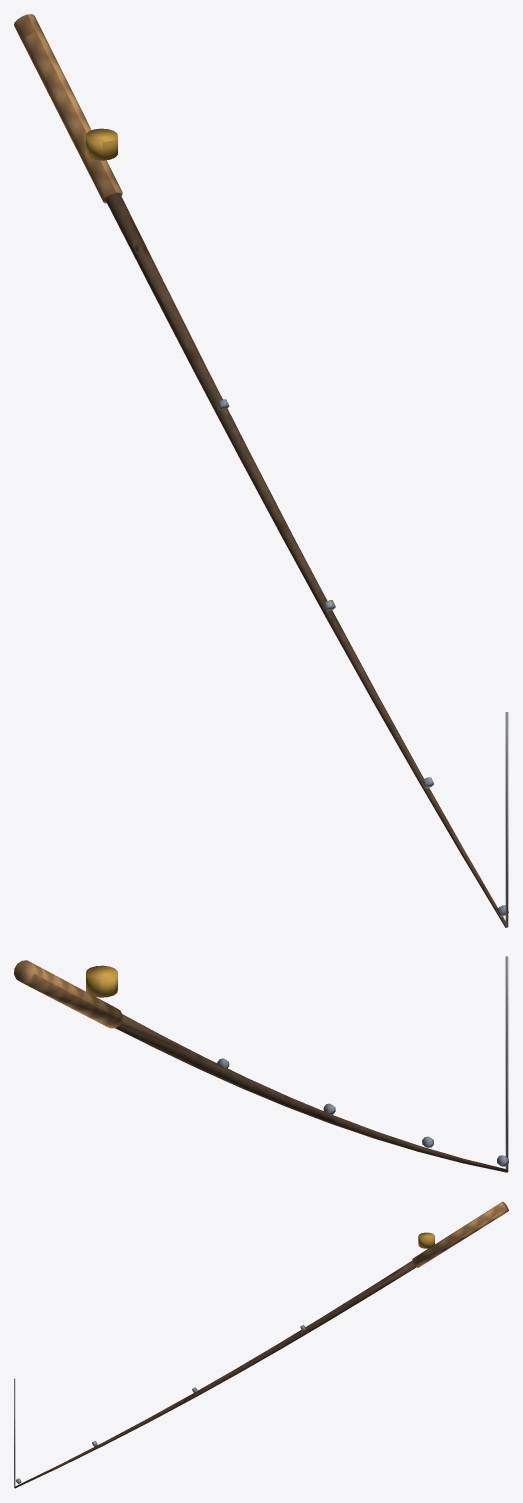
The model's file is cana.glb.
The picture shows the model from 3 angles, top to bottom: view 1: azimuth 30°, elevation 25°; view 2: azimuth 150°, elevation 25°; view 3: azimuth 270°, elevation 25°; orthographic projection. The views are drawn at different scales.
Visible parts, largest first — view 1: cana; view 2: cana; view 3: cana.
Part boxes in pixels (x1,y1,x2,y2): cana: [14, 14, 508, 927]; cana: [14, 956, 508, 1172]; cana: [14, 1201, 508, 1488].
Bounding box in the file's own units: 0.0468 × 0.9193 × 1.44.
4 materials, 4 textured.
